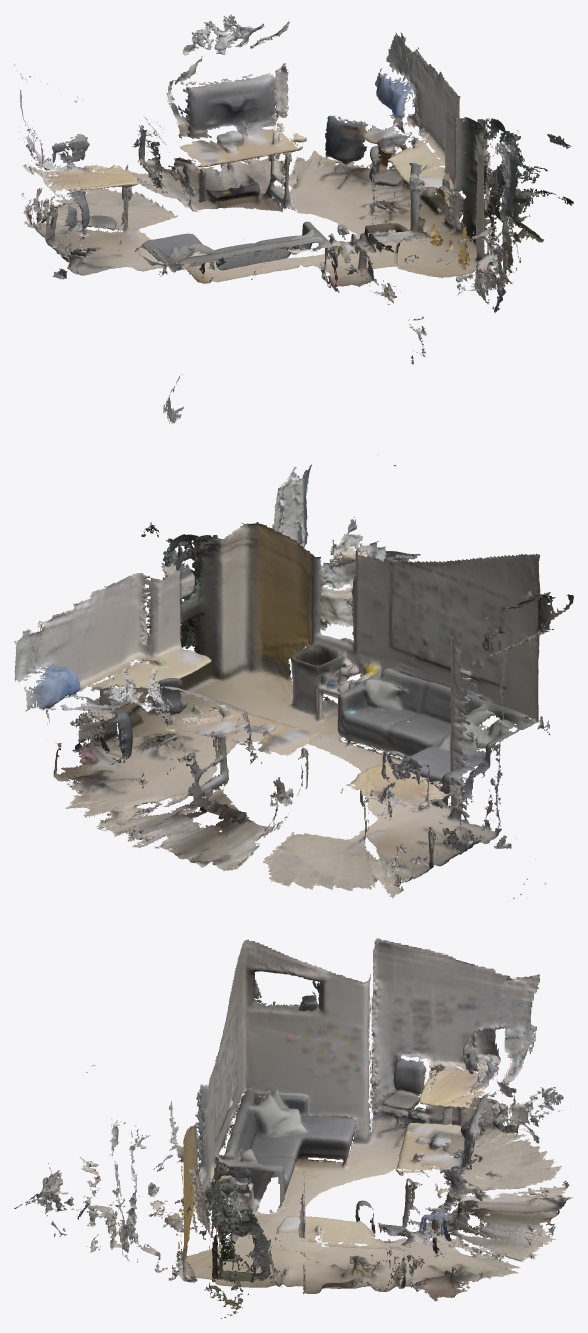
Rendered from scan-d9c97c94c38a.glb.
The picture shows the model from 3 angles, top to bottom: view 1: azimuth 30°, elevation 25°; view 2: azimuth 150°, elevation 25°; view 3: azimuth 270°, elevation 25°; orthographic projection. The views are drawn at different scales.
Bounding box in the file's own units: 6.82 × 4.66 × 7.58.
